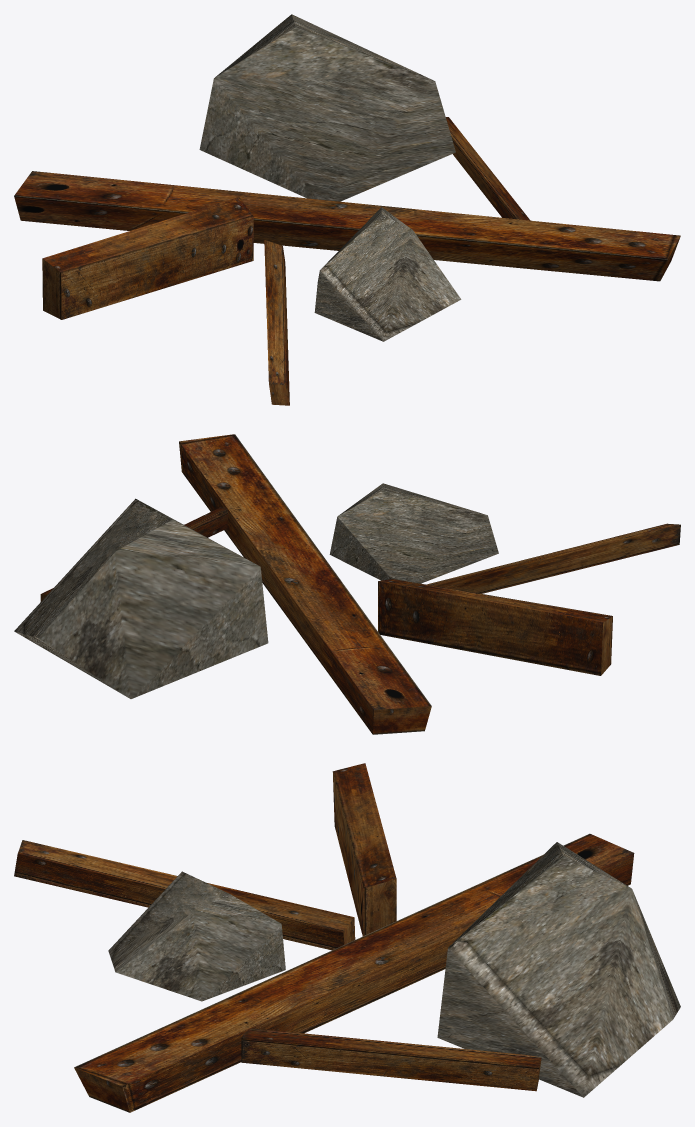
Rendered from mm9_deco_lumberstone02.glb.
3 views of the same model, one above another, from view 1: azimuth 30°, elevation 25°; view 2: azimuth 150°, elevation 25°; view 3: azimuth 270°, elevation 25° (orthographic). The views are drawn at different scales.
Visible parts, largest first — view 1: Lumberstone02; view 2: Lumberstone02; view 3: Lumberstone02.
Part boxes in pixels (x1=…): Lumberstone02: x1=14, y1=14, x2=680, y2=405; Lumberstone02: x1=14, y1=434, x2=680, y2=734; Lumberstone02: x1=14, y1=763, x2=680, y2=1112.
Size of the model in its own units: 2.62 by 0.6665 by 2.53.
Materials: 1 (1 with a texture image).
